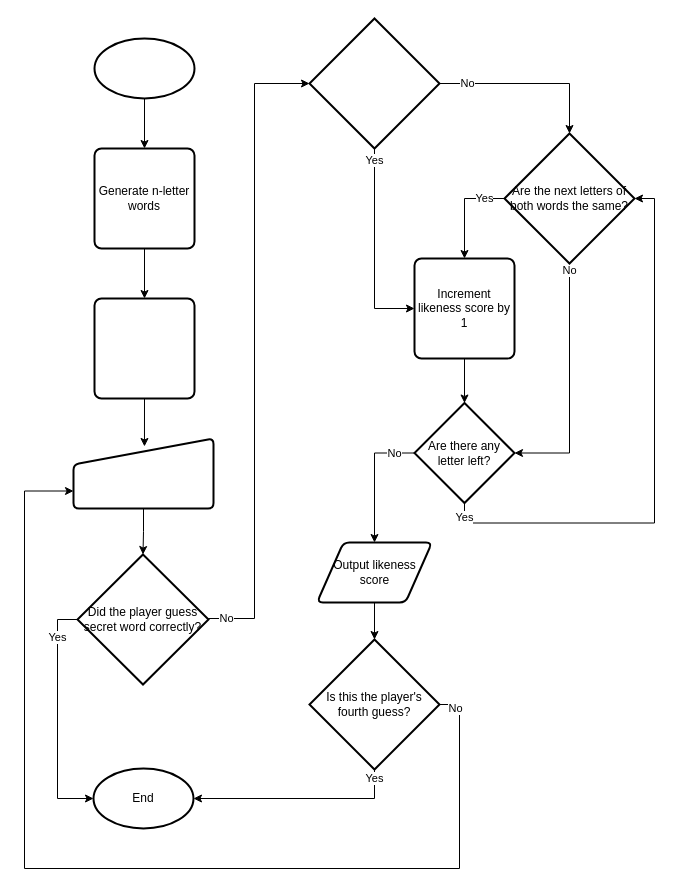
Image size: 680x894. Some labels were removed from this diagram. The shapes that lost their labels are listed below. From the top down, each one's box as (x1, y1, x2, y2) in pixels, then its label:
(93, 37, 195, 99): Start
(308, 17, 440, 149): Are the first letters of both words the same?
(93, 297, 195, 399): Choose secret word for player to guess
(72, 437, 214, 509): Player enters a word
